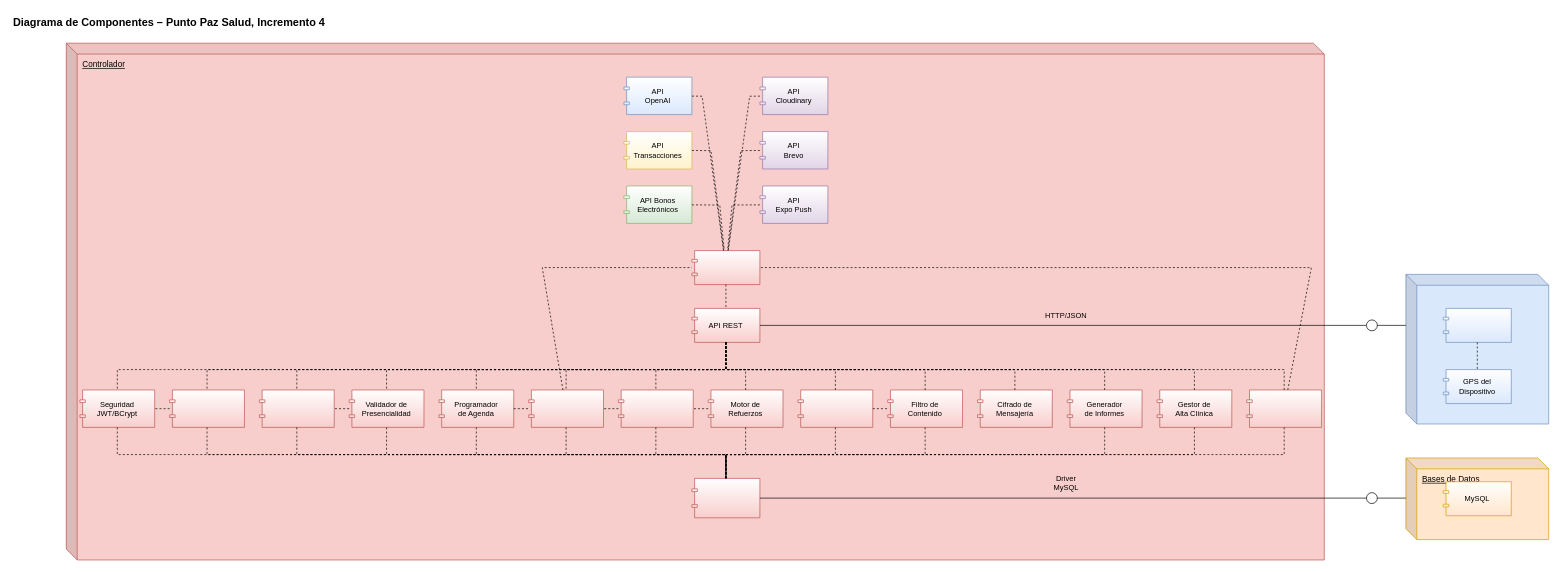
The diagram is 1561 pixels wide and 572 high, and some of its shapes have lost their labels. Each missing label, with the box of its shape:
API Adapter: (691, 250, 760, 285)
Capa de Acceso a Datos: (691, 478, 760, 518)
Cliente Móvil: (1443, 308, 1511, 342)
Control de Acceso Clínico: (169, 389, 244, 427)
Despachador de Notificaciones: (528, 389, 604, 427)
Escalador de Eventos Críticos: (797, 389, 873, 427)
Gestor de Contingencia: (1246, 389, 1322, 427)
Motor Agendamiento: (259, 389, 334, 427)
Motor Clínico: (618, 389, 693, 427)
Vista: (1405, 274, 1549, 424)
